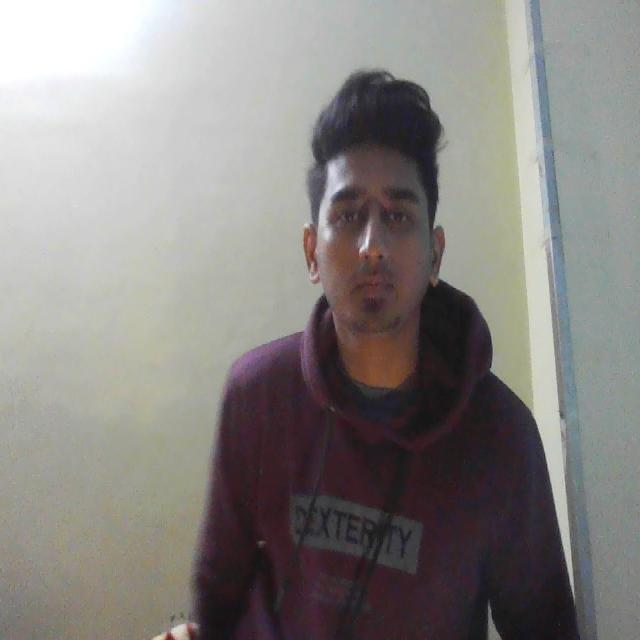real: (306, 84, 451, 357)
